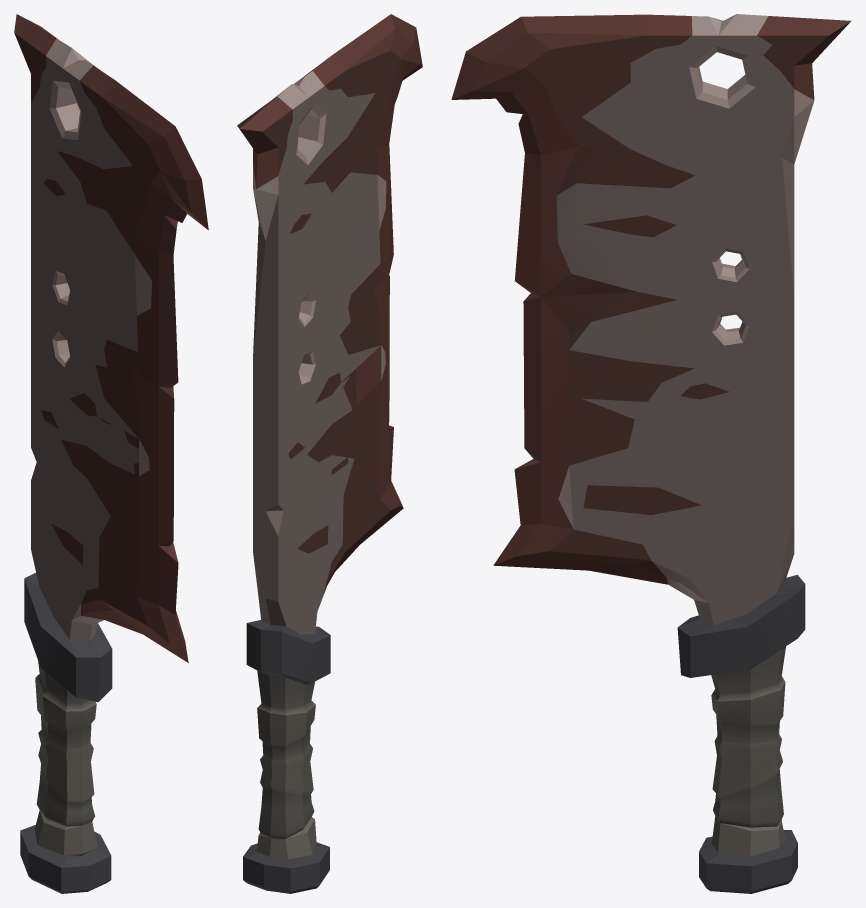
Rendered from butcher_cleaver.glb.
3 renders of one model, left to right at view 1: azimuth 30°, elevation 25°; view 2: azimuth 150°, elevation 25°; view 3: azimuth 270°, elevation 25°, orthographic. The views are drawn at different scales.
Parts seen in each view (by area): view 1: SM_Wep_PigButcher_01; view 2: SM_Wep_PigButcher_01; view 3: SM_Wep_PigButcher_01.
Boxes of the visible parts, box(x1,y1,x2,y2) form: SM_Wep_PigButcher_01: box(14, 14, 208, 893); SM_Wep_PigButcher_01: box(237, 14, 422, 893); SM_Wep_PigButcher_01: box(451, 14, 850, 893).
Size of the model in its own units: 0.136 by 1.5 by 0.629.
1 material, 1 textured.
